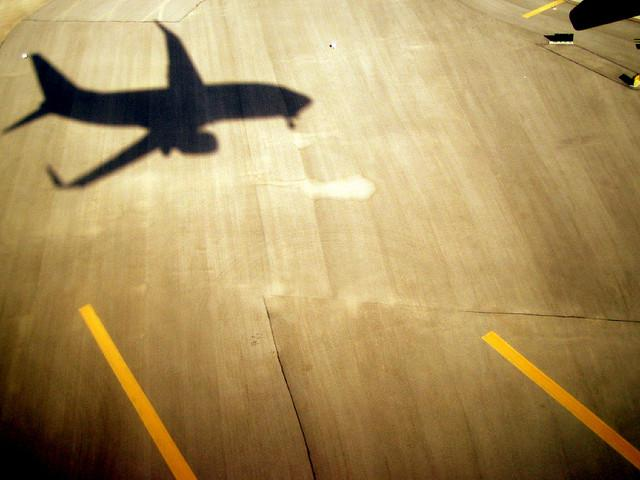Airplane: (6, 21, 311, 189)
